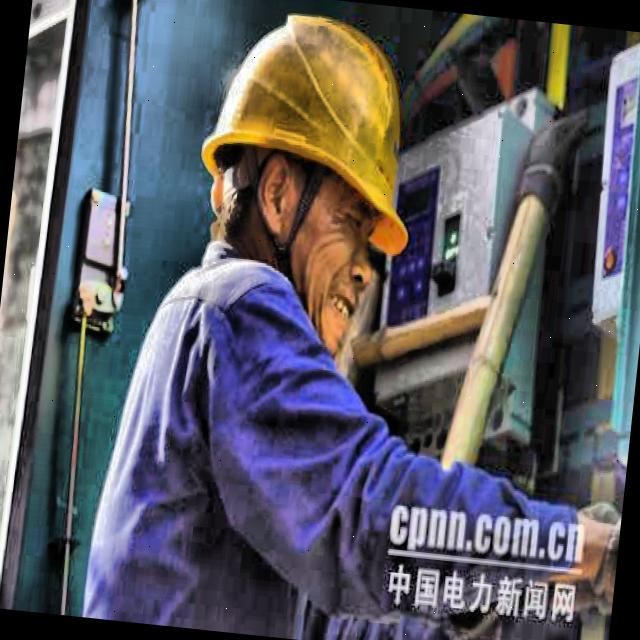helmet: (163, 0, 443, 366)
